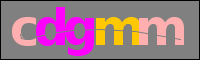c: (10, 16, 36, 49)
d: (37, 5, 65, 48)
g: (66, 15, 95, 56)
m: (139, 14, 187, 50), (95, 15, 140, 45)
